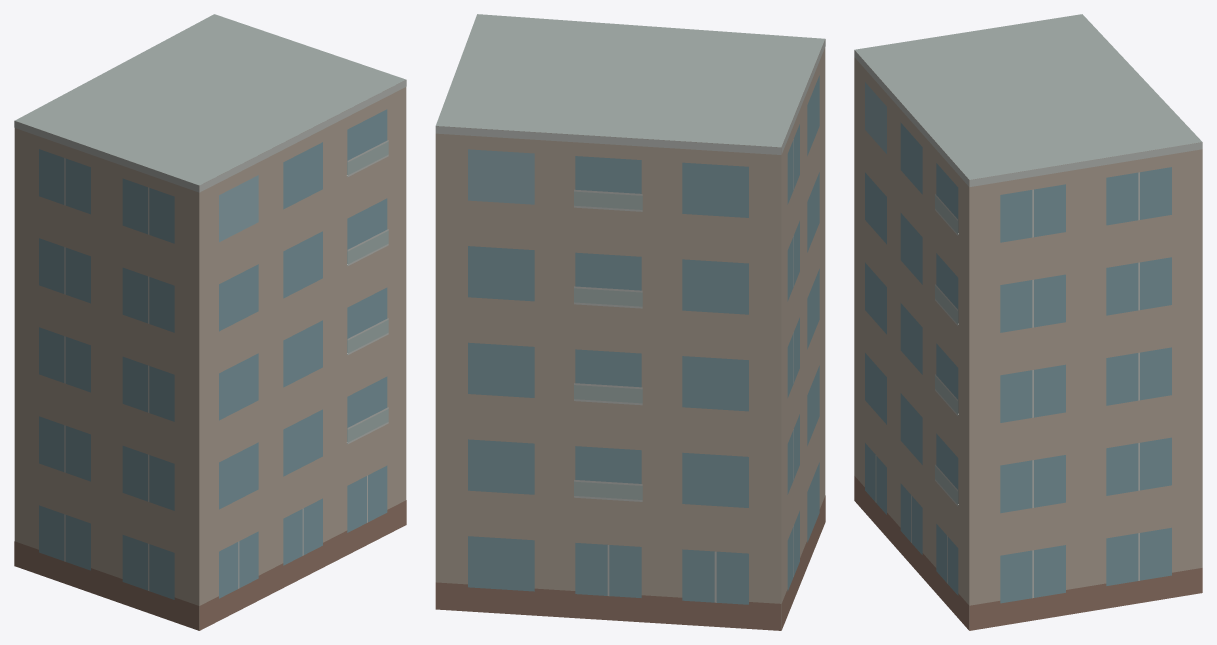
The model's file is residential-16a5ac2c-f892-4556-a63e-18d83b28ab9f.glb.
3 renders of one model, left to right at view 1: azimuth 30°, elevation 25°; view 2: azimuth 150°, elevation 25°; view 3: azimuth 270°, elevation 25°, orthographic. The views are drawn at different scales.
Parts seen in each view (by area): view 1: residential-16a5ac2c-f892-4556-a63e-18d83b28ab9f.tmp; view 2: residential-16a5ac2c-f892-4556-a63e-18d83b28ab9f.tmp; view 3: residential-16a5ac2c-f892-4556-a63e-18d83b28ab9f.tmp.
Boxes of the visible parts, x1,y1,x2,y2 form: residential-16a5ac2c-f892-4556-a63e-18d83b28ab9f.tmp: (14, 14, 406, 630); residential-16a5ac2c-f892-4556-a63e-18d83b28ab9f.tmp: (435, 14, 825, 630); residential-16a5ac2c-f892-4556-a63e-18d83b28ab9f.tmp: (854, 14, 1202, 630).
Size of the model in its own units: 12.05 by 15.25 by 10.69.
